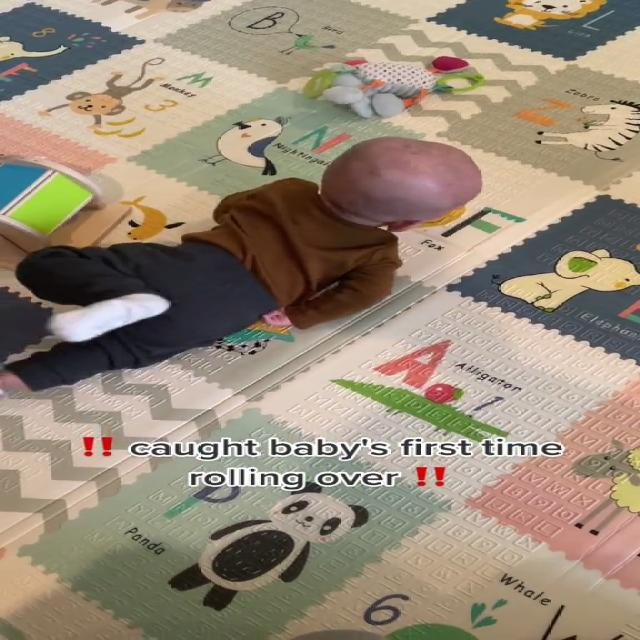baby: (0, 129, 496, 405)
